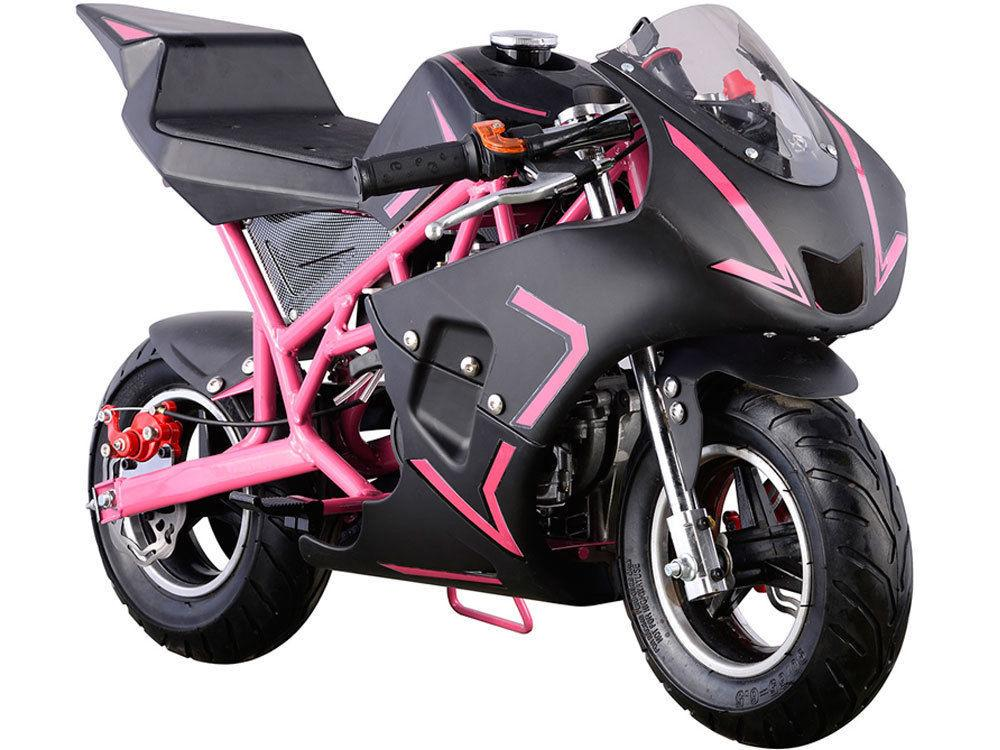Motorcycle: (64, 0, 936, 720)
